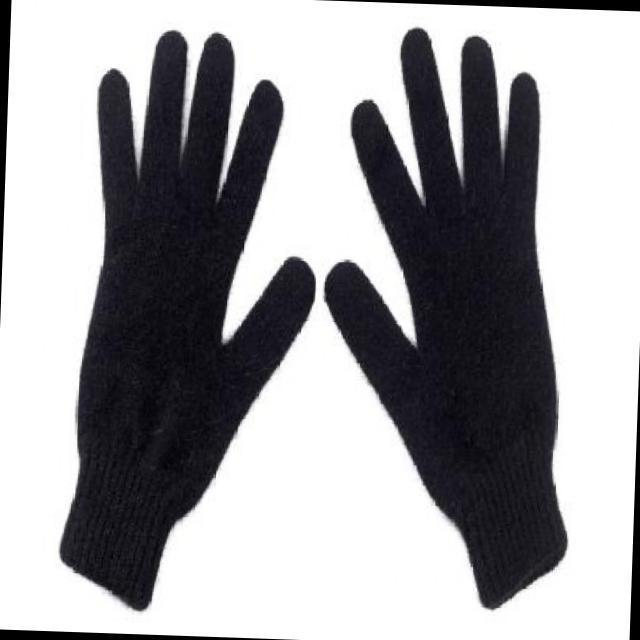gloved_hand: (315, 18, 587, 603), (67, 31, 325, 610)
